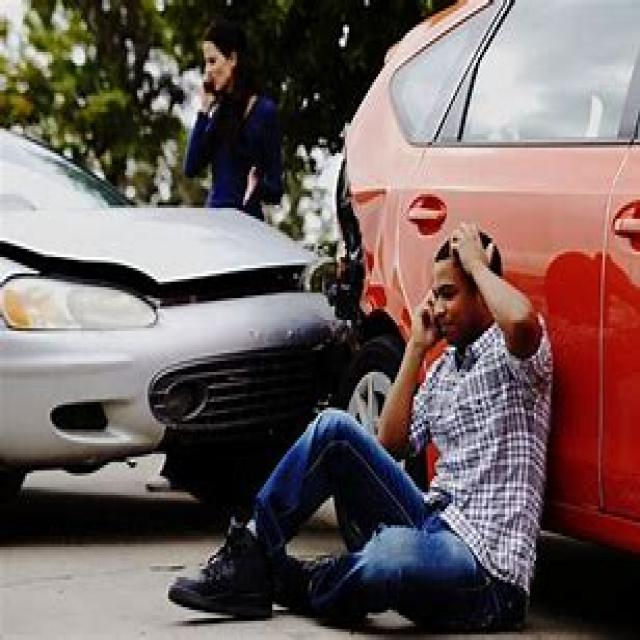Accident: (78, 97, 510, 492)
